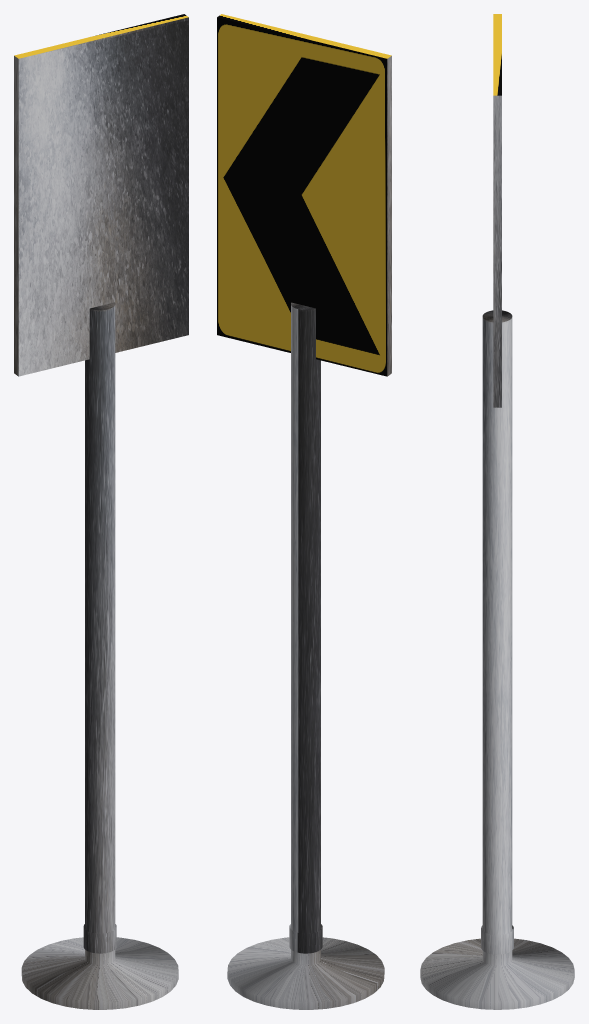
The model's file is Trafficsignal3.fbx.
3 renders of one model, left to right at view 1: azimuth 30°, elevation 25°; view 2: azimuth 150°, elevation 25°; view 3: azimuth 270°, elevation 25°, orthographic.
Visible parts, largest first — view 1: Trafficsignal3; view 2: Trafficsignal3; view 3: Trafficsignal3.
Part boxes in pixels (left/top/right/bottom): Trafficsignal3: left=14, top=14, right=188, bottom=1009; Trafficsignal3: left=217, top=14, right=391, bottom=1009; Trafficsignal3: left=420, top=14, right=574, bottom=1009.
Size of the model in its own units: 90.76 by 479 by 72.6.
